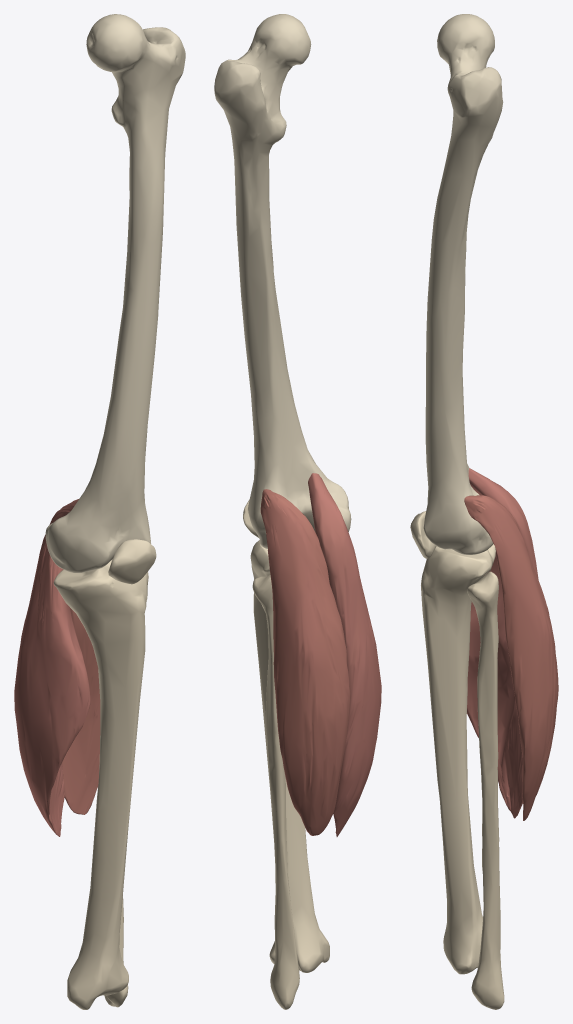
Rendered from legs-left.glb.
3 views of the same model, side by side, from view 1: azimuth 30°, elevation 25°; view 2: azimuth 210°, elevation 25°; view 3: azimuth 270°, elevation 25° (orthographic). The views are drawn at different scales.
Parts seen in each view (by area): view 1: grp1 (×6); view 2: grp1 (×5); view 3: grp1 (×6).
Boxes of the visible parts, box(x1,y1,x2,y2) form: grp1 (×6): box(14, 14, 185, 1009); grp1 (×5): box(214, 14, 381, 1009); grp1 (×6): box(410, 14, 558, 1009).
Bounding box in the file's own units: 0.4186 × 2.8 × 0.381.
